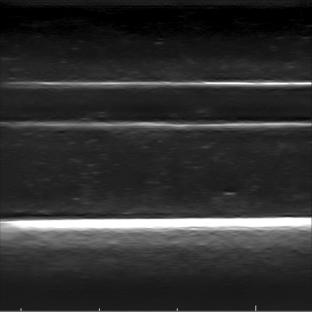vessel: (5, 78, 307, 131)
